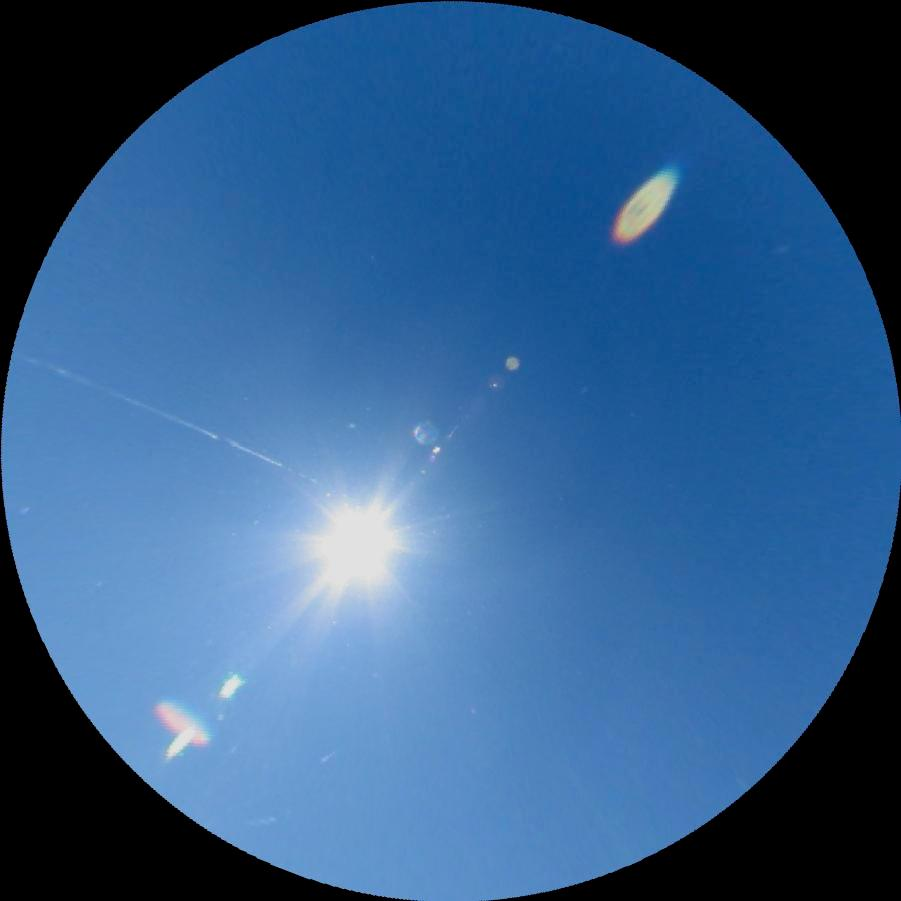contrail young: (316, 744, 340, 766), (237, 815, 277, 827)
parasite: (9, 347, 319, 485)
sun: (309, 496, 403, 590)
